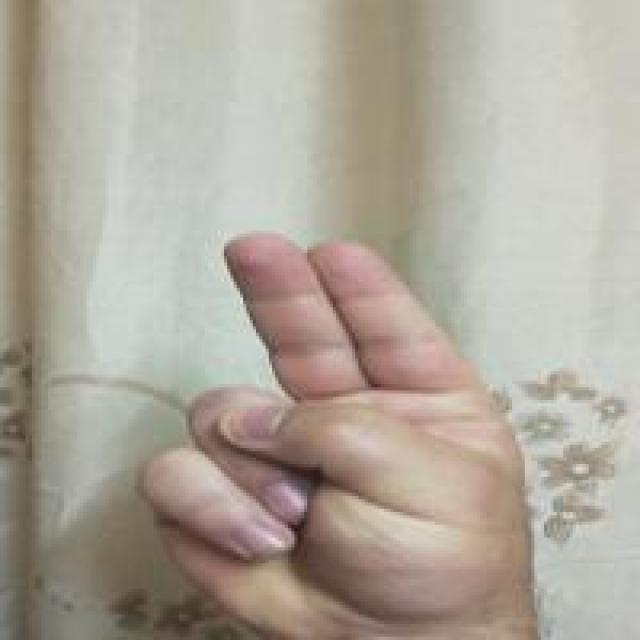U: (126, 226, 536, 619)
